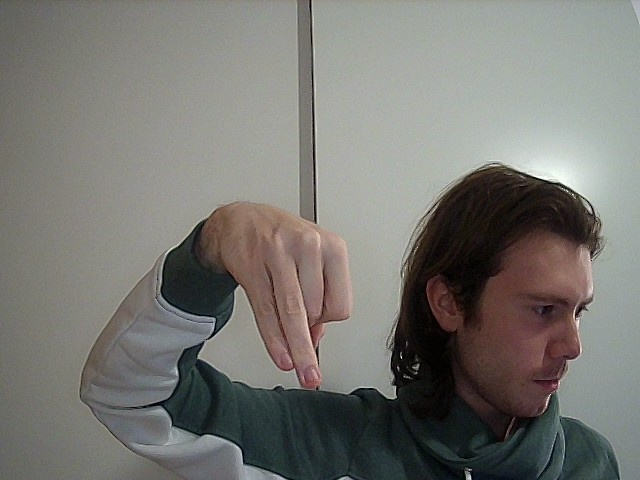n: (177, 192, 359, 395)
